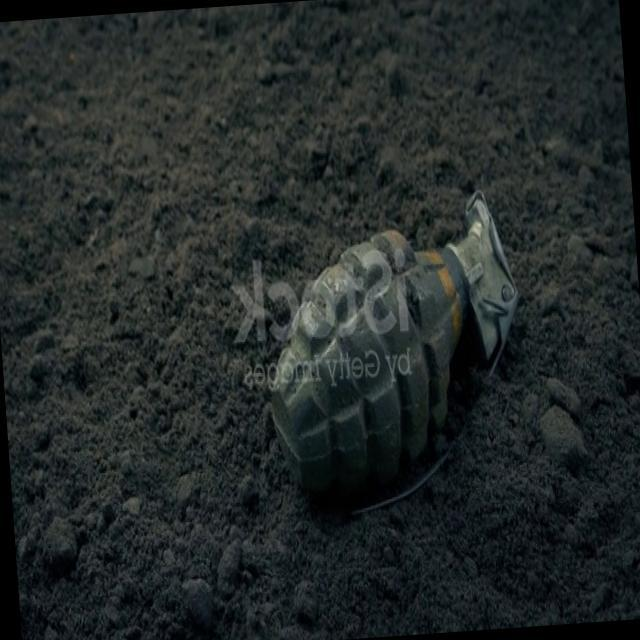grenade: (251, 189, 534, 530)
